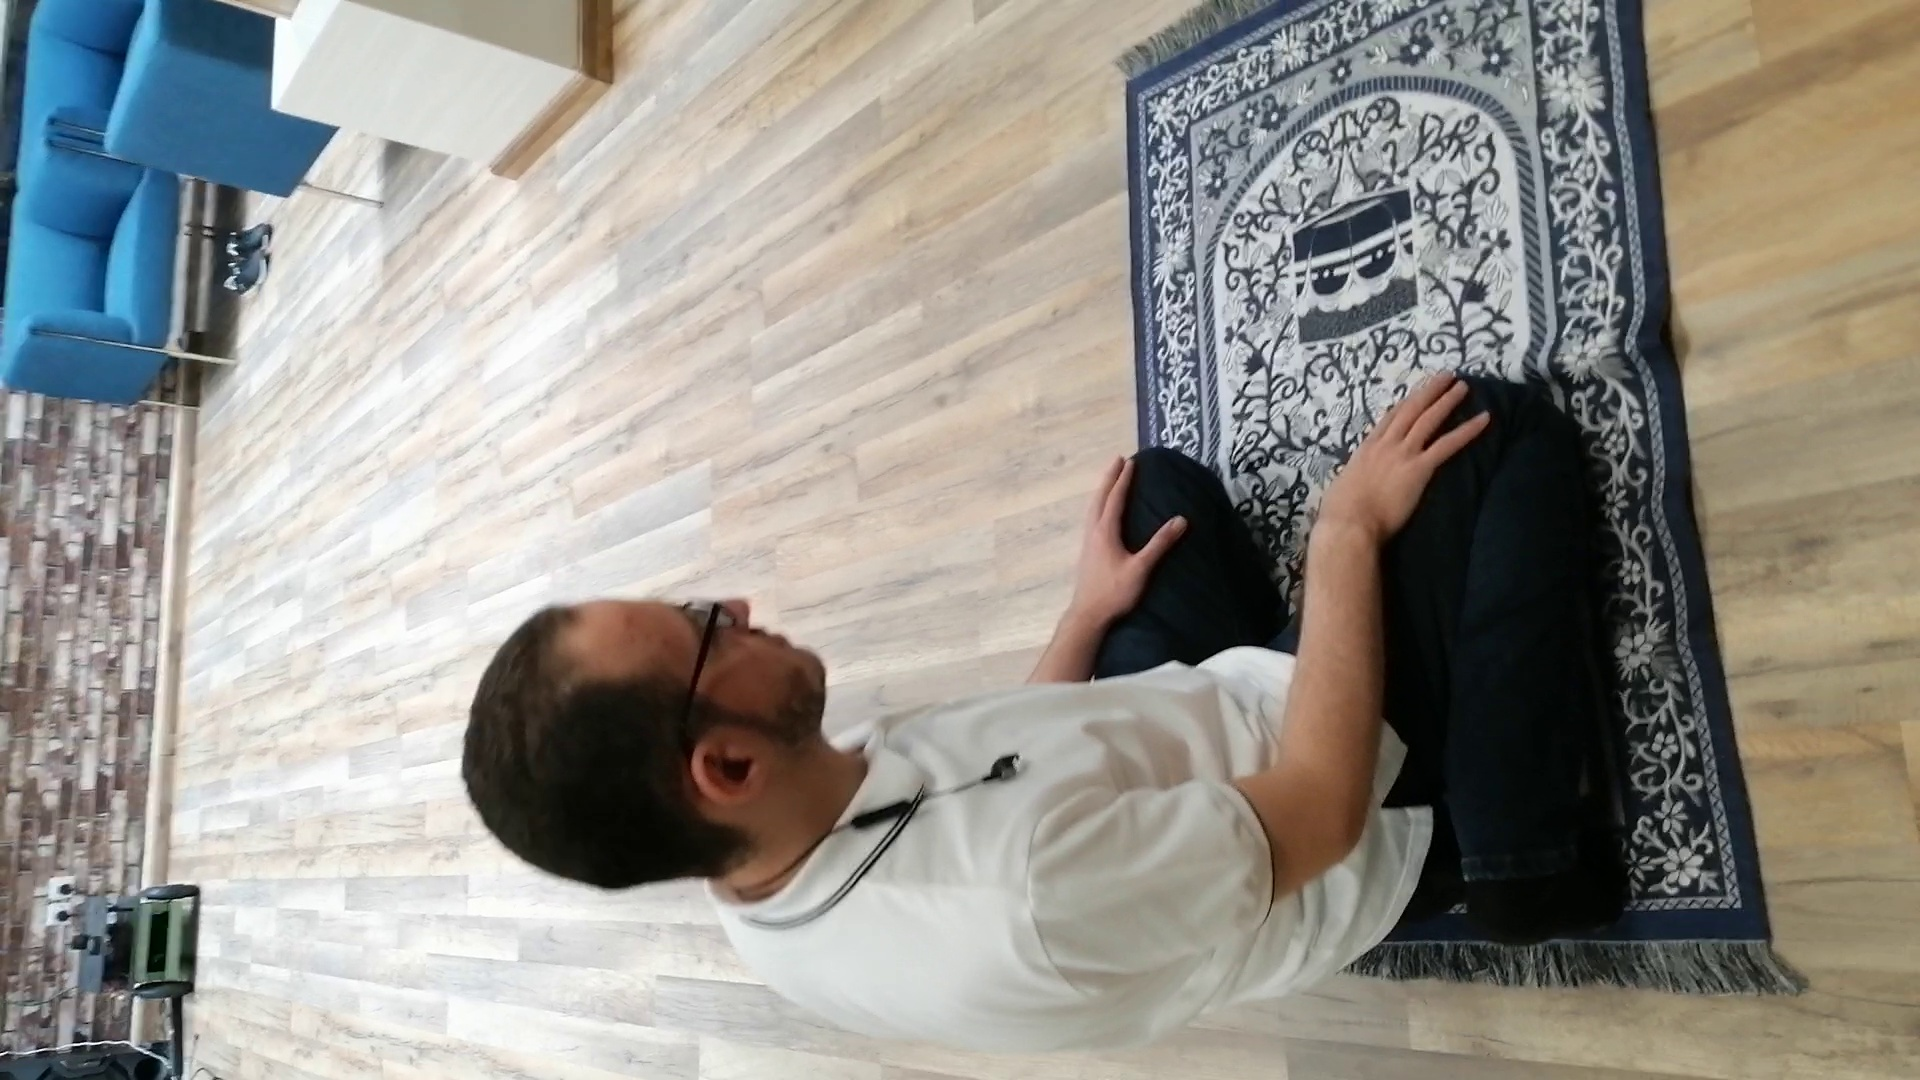sitting: (438, 353, 1656, 1062)
